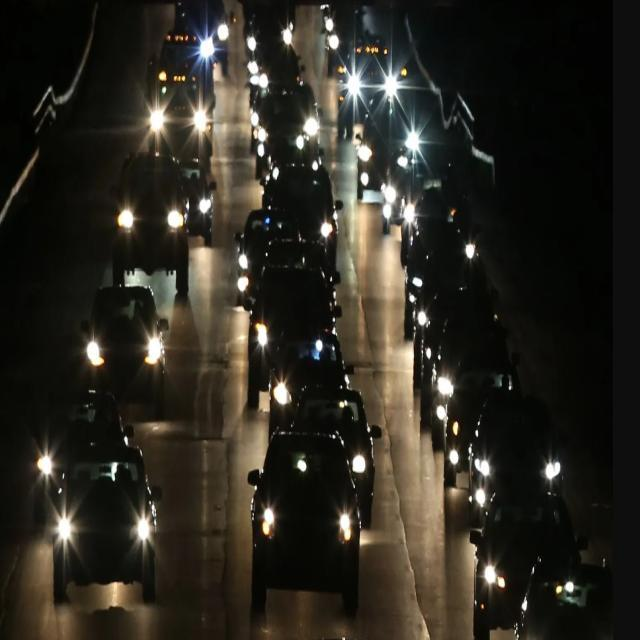headlights: (250, 498, 357, 553), (45, 515, 167, 558), (469, 449, 570, 485), (84, 333, 178, 368), (144, 101, 214, 138), (114, 203, 191, 234)
